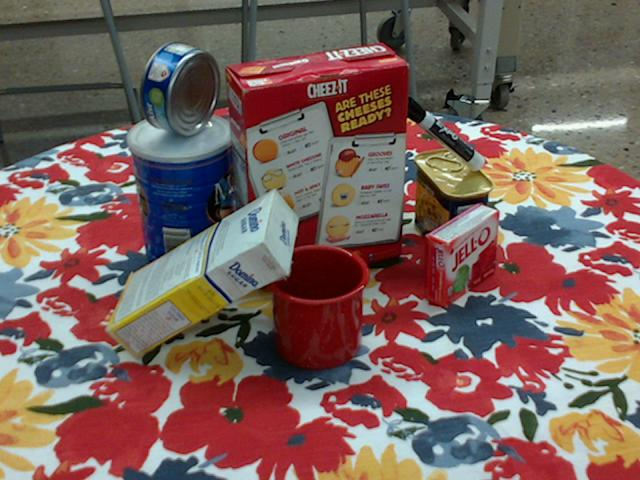cracker_box: (224, 43, 410, 288)
gelatin_box: (424, 202, 501, 308)
large_marker: (399, 96, 486, 170)
master_chef_can: (129, 112, 238, 281)
mug: (262, 242, 370, 369)
mustard_bottle: (344, 45, 402, 227)
potted_meat_can: (415, 148, 494, 262)
sugar_box: (103, 188, 297, 361)
tomato_soup_can: (258, 109, 321, 215)
tuna_fish_can: (139, 41, 218, 135)
